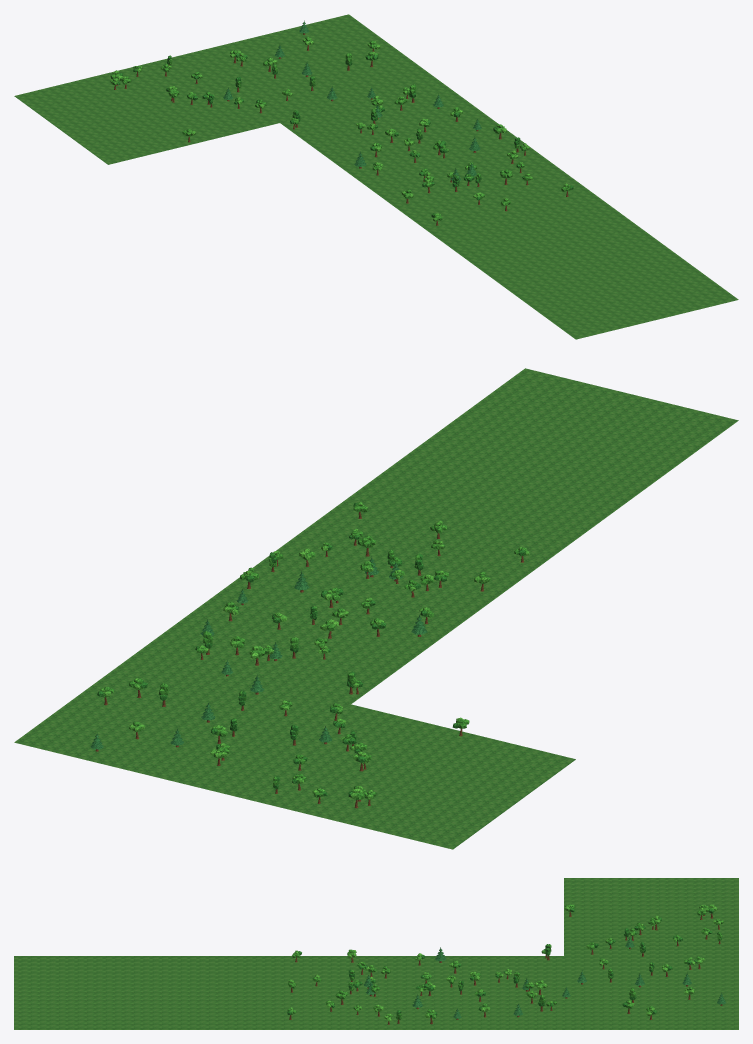
The model's file is skirt_1.glb.
3 renders of one model, top to bottom at view 1: azimuth 30°, elevation 25°; view 2: azimuth 150°, elevation 25°; view 3: azimuth 270°, elevation 25°, orthographic. The views are drawn at different scales.
Visible parts, largest first — view 1: skirt_1; view 2: skirt_1; view 3: skirt_1.
Part boxes in pixels (x1,y1,x2,y2): skirt_1: [14, 14, 738, 339]; skirt_1: [14, 368, 738, 849]; skirt_1: [14, 878, 738, 1029].
Size of the model in its own units: 115 by 5.78 by 232.
Materials: 6 (6 with a texture image).
